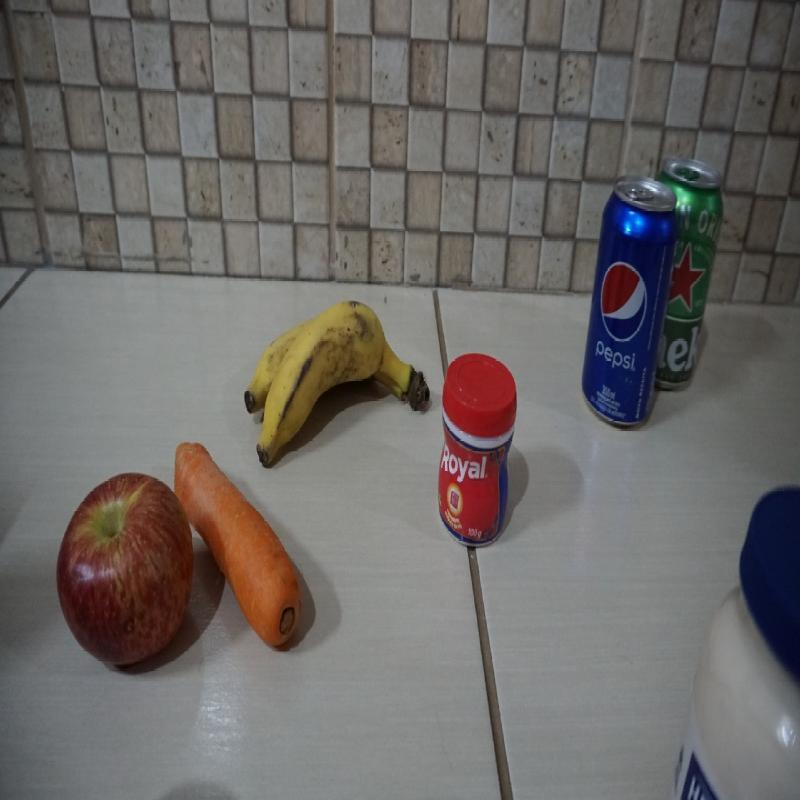Apple: (56, 472, 196, 670)
Banana: (244, 298, 431, 472)
Beer can: (653, 156, 725, 390)
Carrot: (173, 443, 301, 648)
Mayonnaise: (662, 483, 800, 799)
Soda can: (580, 173, 679, 428)
Yeast: (437, 351, 518, 552)
